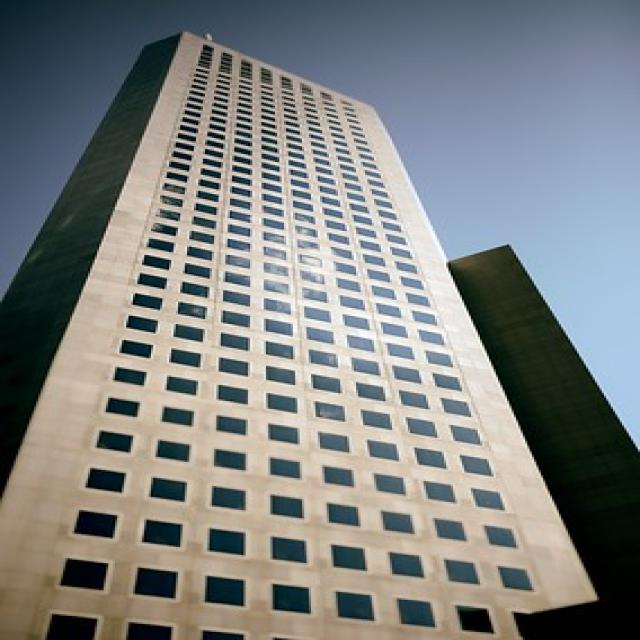building: (0, 23, 602, 639)
